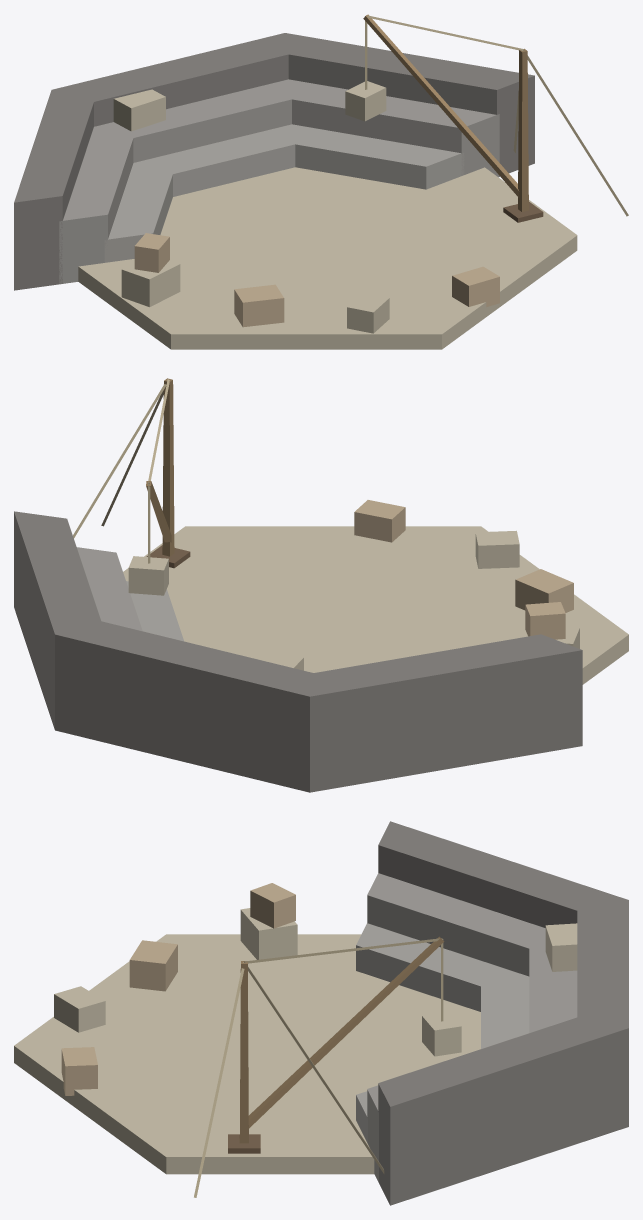
Rendered from quarry.glb.
The picture shows the model from 3 angles, top to bottom: view 1: azimuth 30°, elevation 25°; view 2: azimuth 150°, elevation 25°; view 3: azimuth 270°, elevation 25°; orthographic projection. The views are drawn at different scales.
Visible parts, largest first — view 1: LOD0; view 2: LOD0; view 3: LOD0.
Boxes of the visible parts, box(x1,y1,x2,y2) form: LOD0: box(14, 14, 628, 349); LOD0: box(14, 378, 628, 792); LOD0: box(14, 821, 628, 1205).
Size of what is drawn, in the model's own units: 1.66 by 0.5435 by 1.49.
